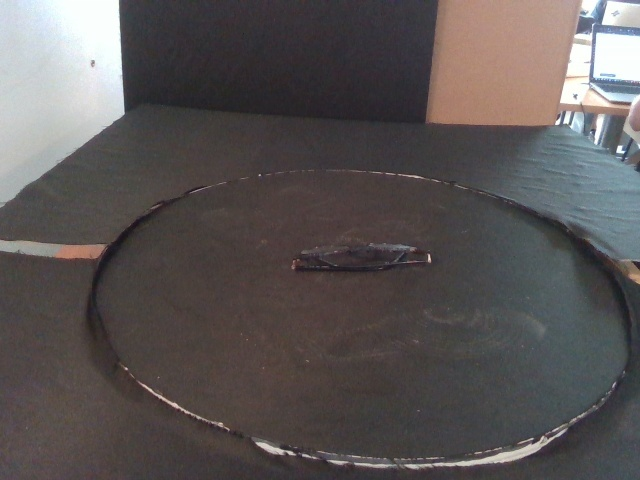glasses: (290, 241, 432, 275)
